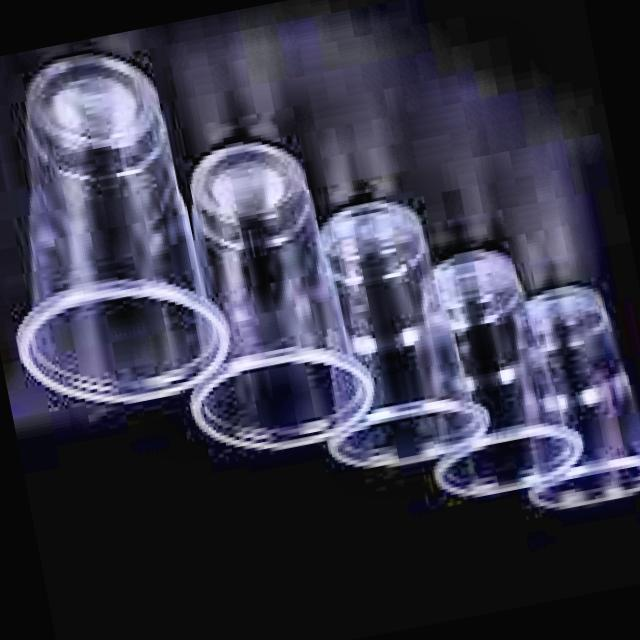plastic cup: (0, 38, 241, 428), (154, 144, 383, 466), (285, 185, 488, 480), (400, 234, 587, 505), (493, 281, 640, 517)
